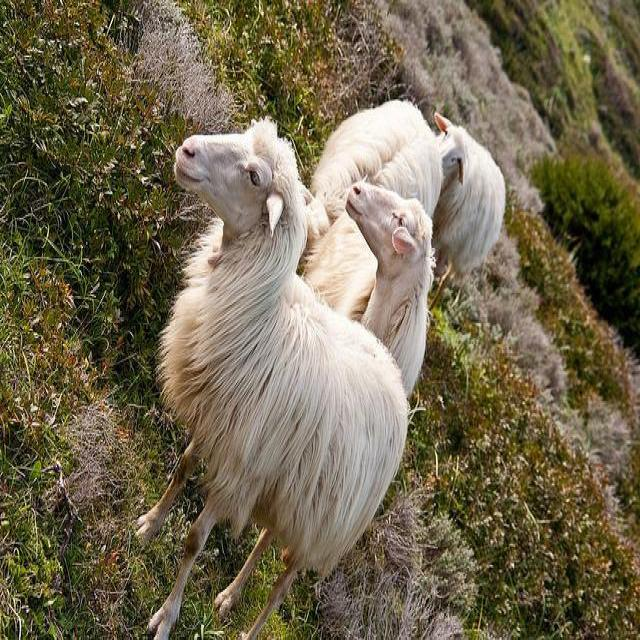Sheep: (134, 121, 413, 638), (305, 102, 442, 325), (349, 186, 436, 395), (435, 112, 507, 300)
